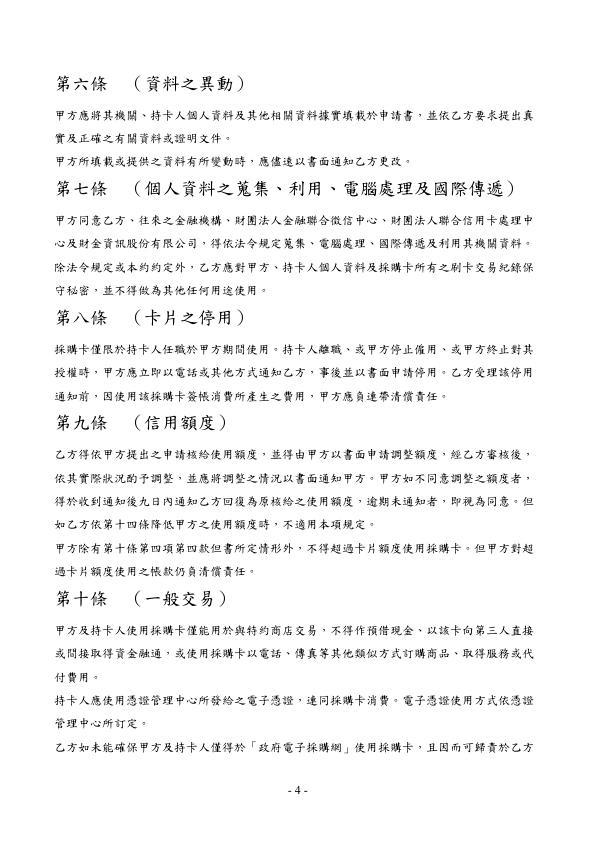text: (53, 622, 537, 759), (53, 446, 535, 582), (53, 209, 540, 300), (54, 106, 537, 171), (54, 339, 535, 404), (54, 178, 519, 203), (51, 303, 248, 331), (50, 71, 257, 95), (54, 584, 229, 610), (51, 411, 231, 436)
